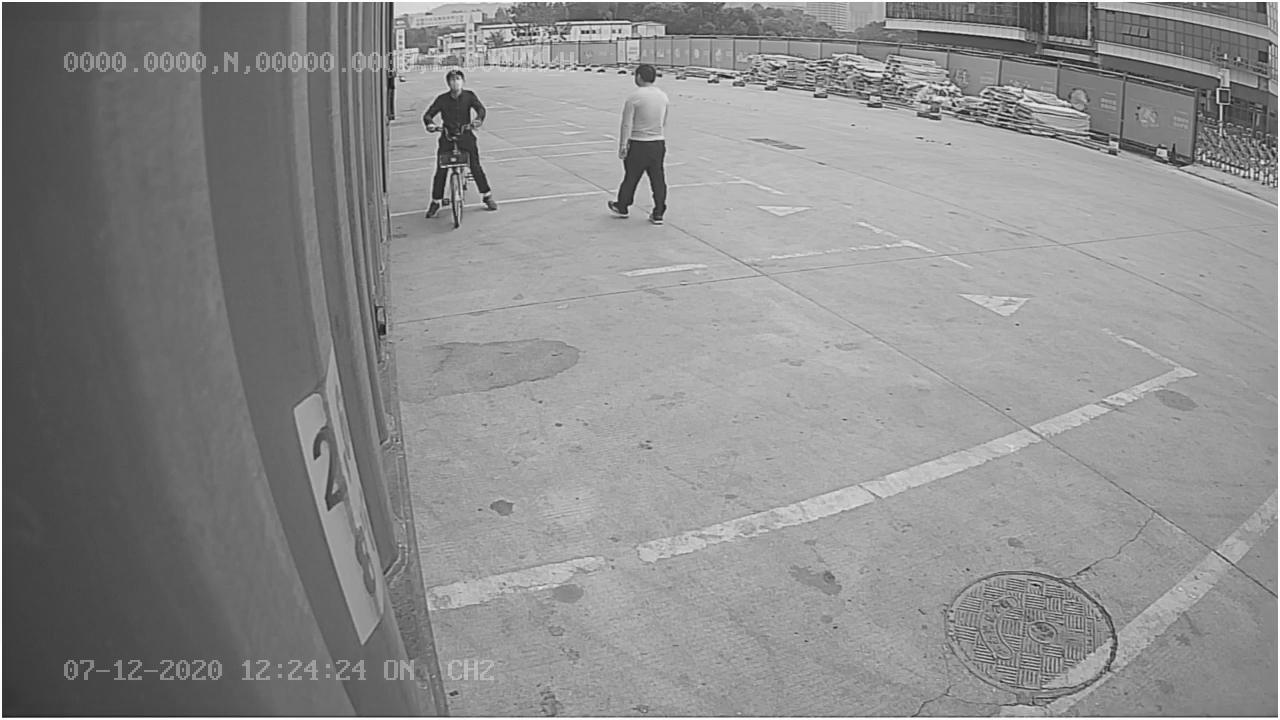person: (601, 64, 675, 226)
